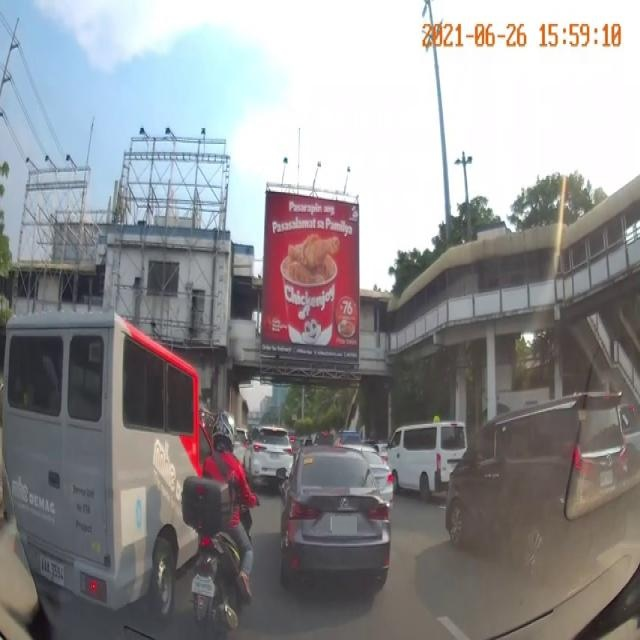car: (0, 307, 222, 628), (444, 415, 631, 589), (387, 420, 470, 500), (244, 413, 296, 489)
motorcycle: (186, 422, 254, 636)
